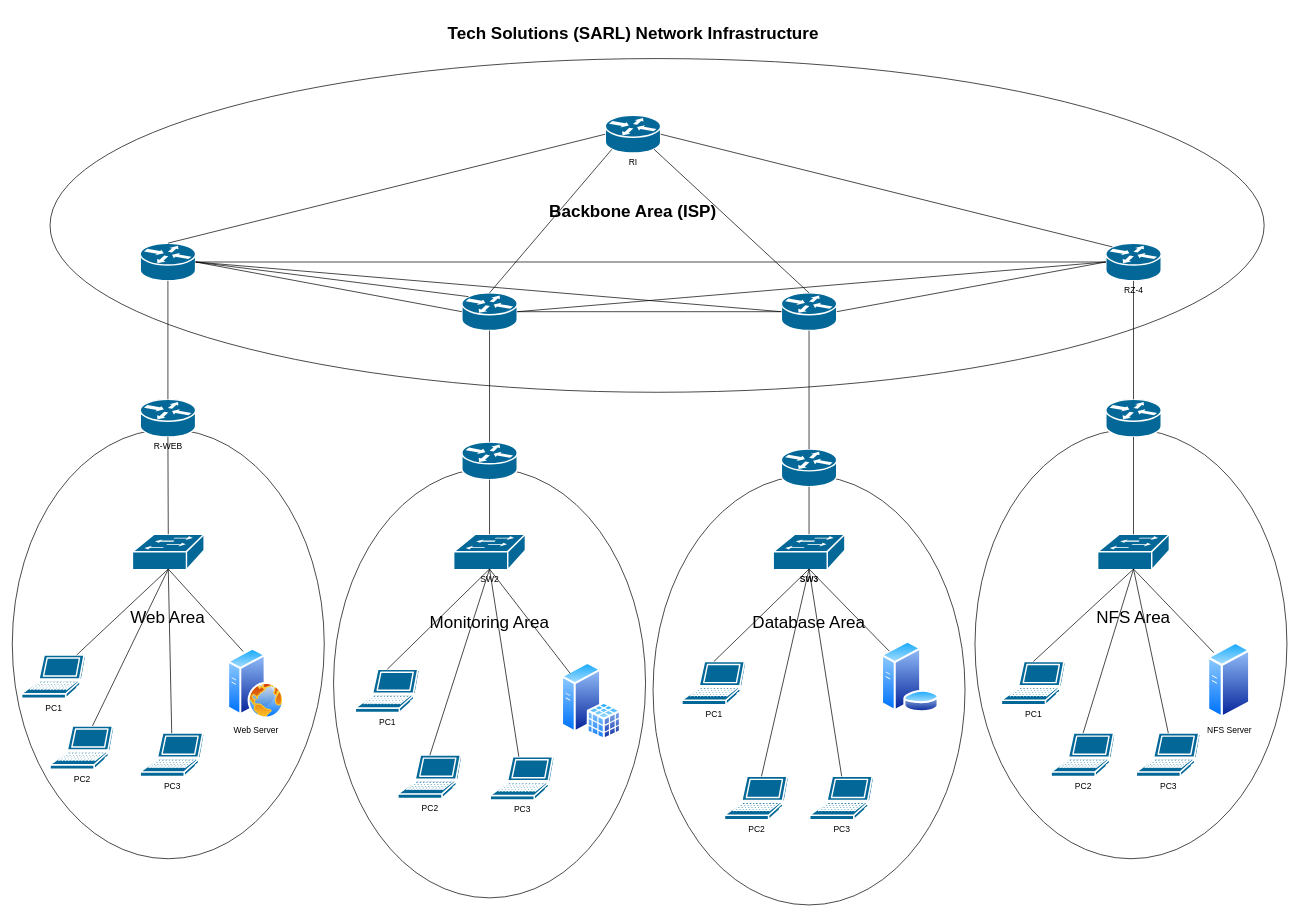
Image size: 1300x918. Some labels were removed from this diagram. Each missing label, with the centre of its shape:
Database Server: (909,676)
Monitoring Server: (591,701)
R-DB: (808,467)
R-IT: (489,460)
R-NFS: (1133,417)
RZ-1: (167,261)
RZ-2: (489,311)
RZ-3: (808,311)
SW1: (167,551)
SW4: (1133,551)
